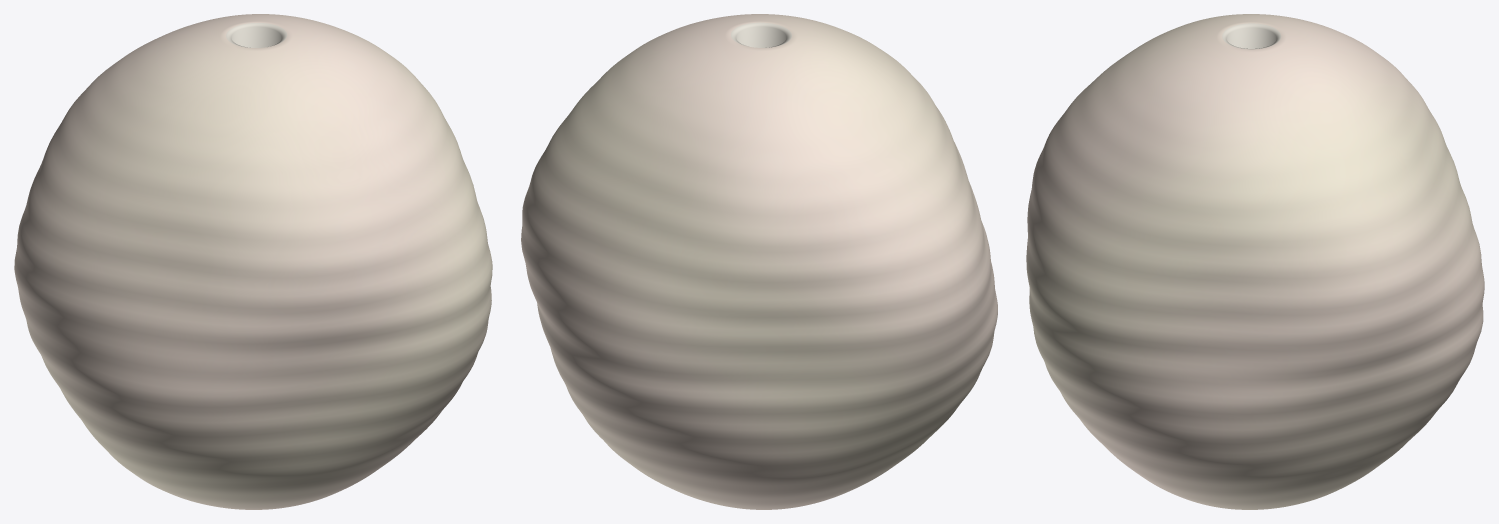
The model's file is pearl-ref-11.glb.
3 views of the same model, side by side, from view 1: azimuth 30°, elevation 25°; view 2: azimuth 150°, elevation 25°; view 3: azimuth 270°, elevation 25° (orthographic).
Visible parts, largest first — view 1: pearl-ref-11; view 2: pearl-ref-11; view 3: pearl-ref-11.
Boxes of the visible parts, left/top/right/bottom form: pearl-ref-11: left=14, top=14, right=492, bottom=509; pearl-ref-11: left=521, top=14, right=997, bottom=509; pearl-ref-11: left=1026, top=14, right=1484, bottom=509.
Size of the model in its own units: 0.00757 by 0.00793 by 0.00731.
Materials: 2 (1 with a texture image).
